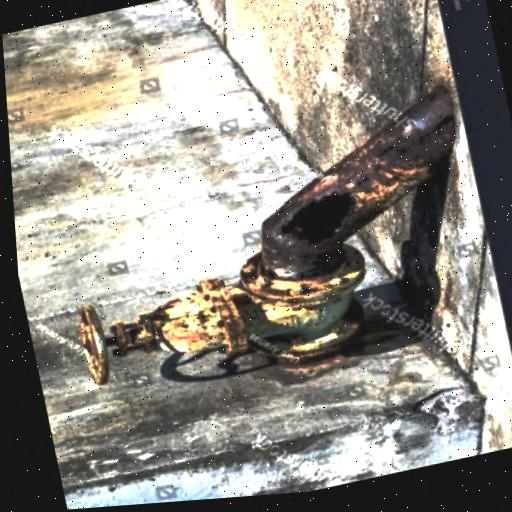corrosion: (260, 84, 452, 276)
